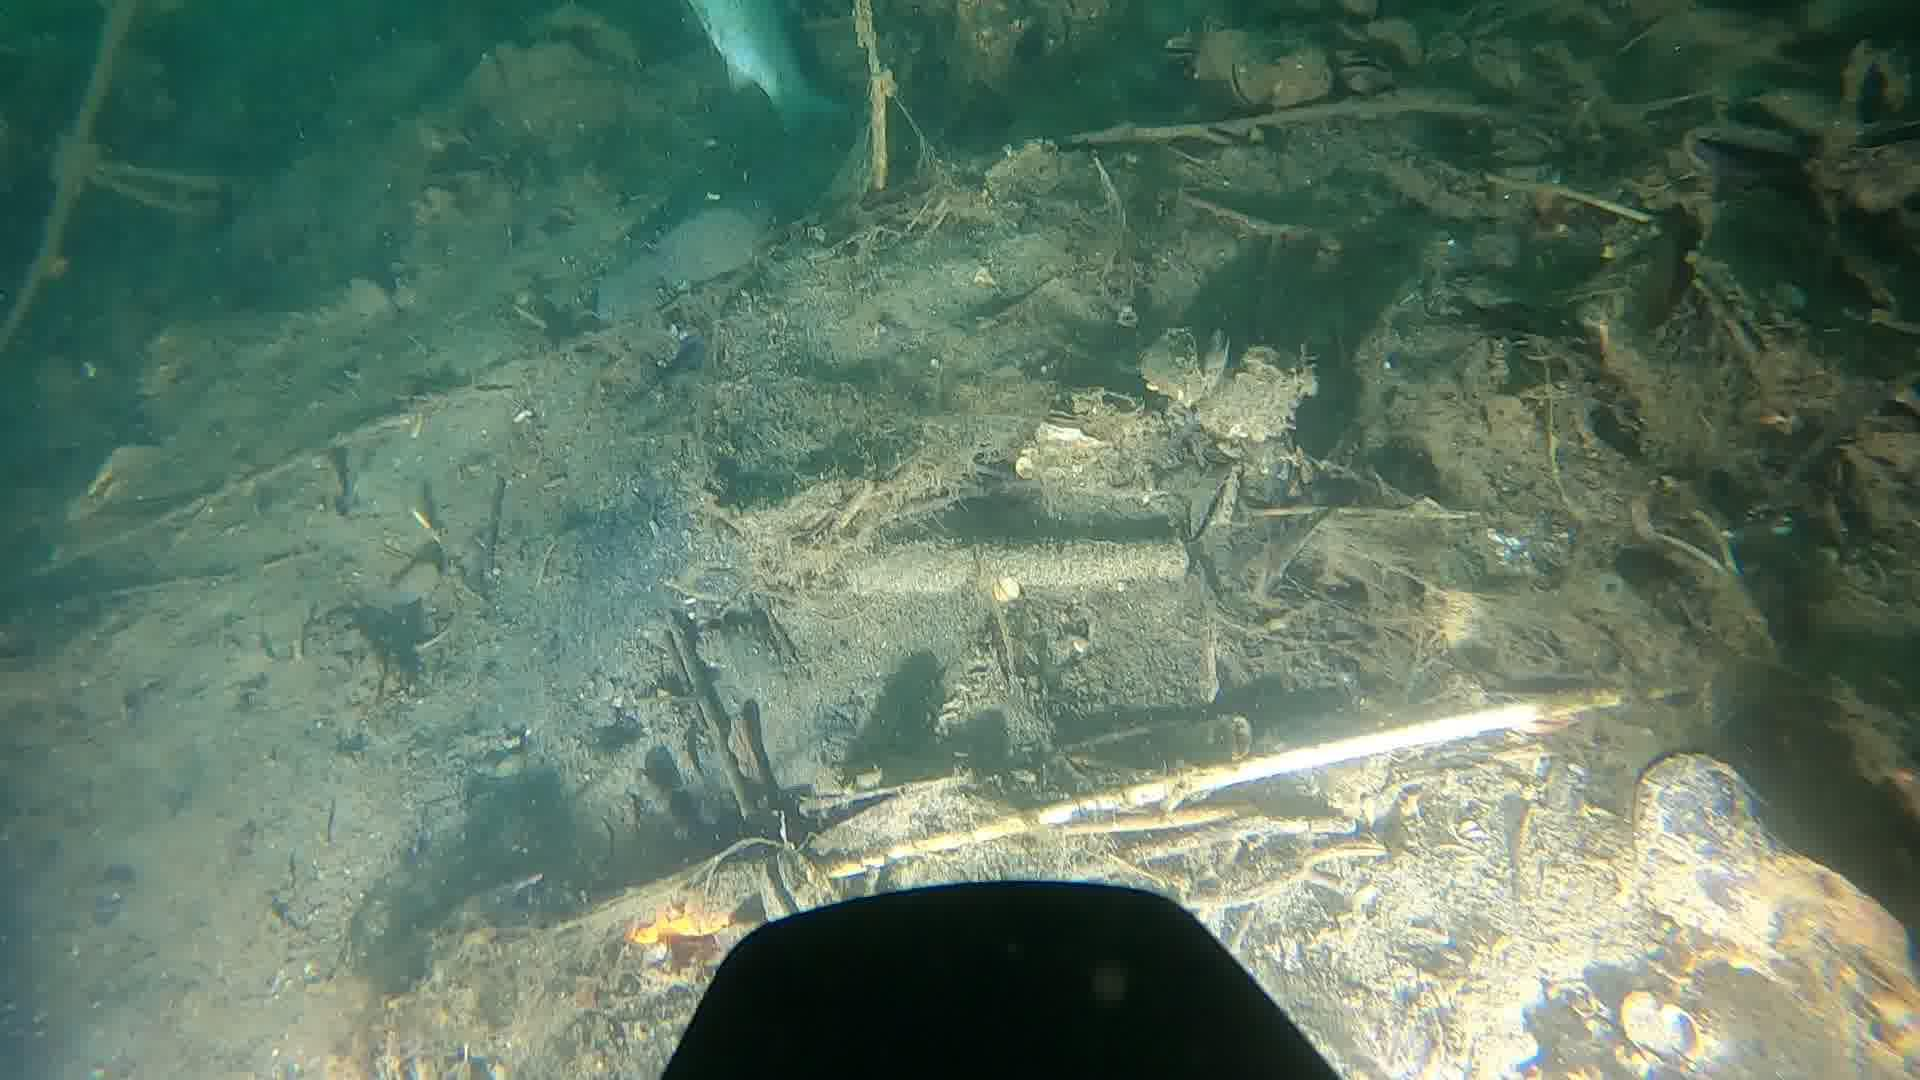bundle of ropes: (0, 0, 208, 339)
